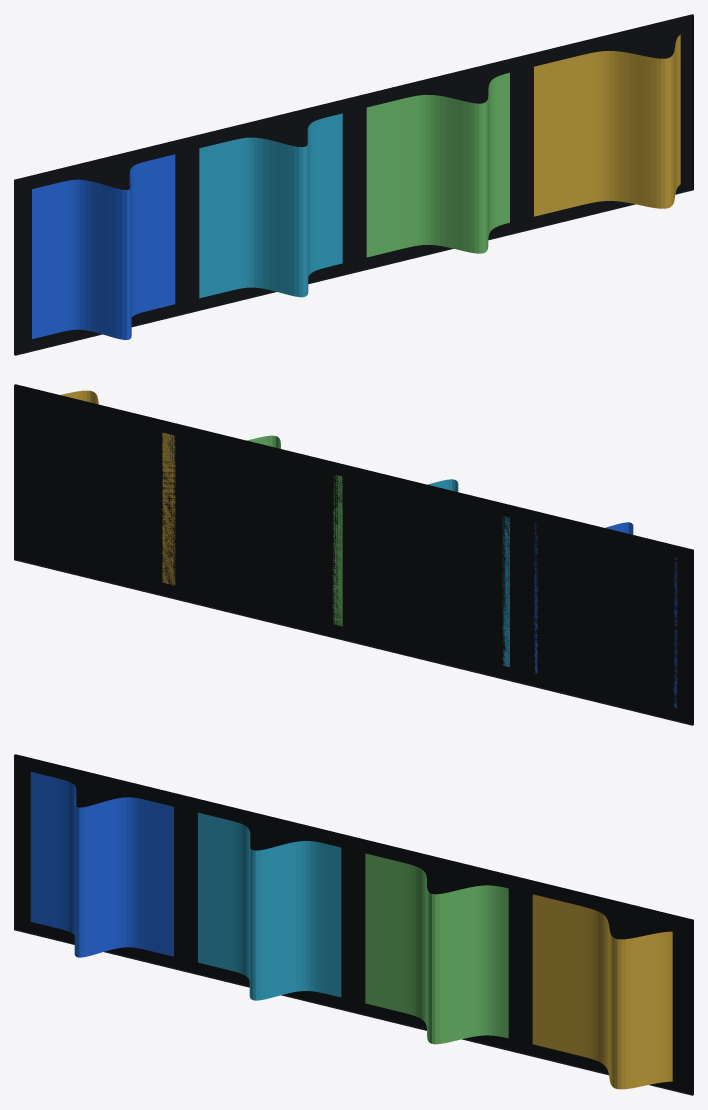
The picture shows the model from 3 angles, top to bottom: view 1: azimuth 30°, elevation 25°; view 2: azimuth 150°, elevation 25°; view 3: azimuth 330°, elevation 25°; orthographic projection.
Visible parts, largest first — view 1: adv_diff_pulse; view 2: adv_diff_pulse; view 3: adv_diff_pulse.
Part boxes in pixels (x1,y1,x2,y2): adv_diff_pulse: (14, 14, 693, 355); adv_diff_pulse: (14, 384, 693, 725); adv_diff_pulse: (14, 754, 693, 1095).
Bounding box in the file's own units: 28.4 × 7 × 1.9.
